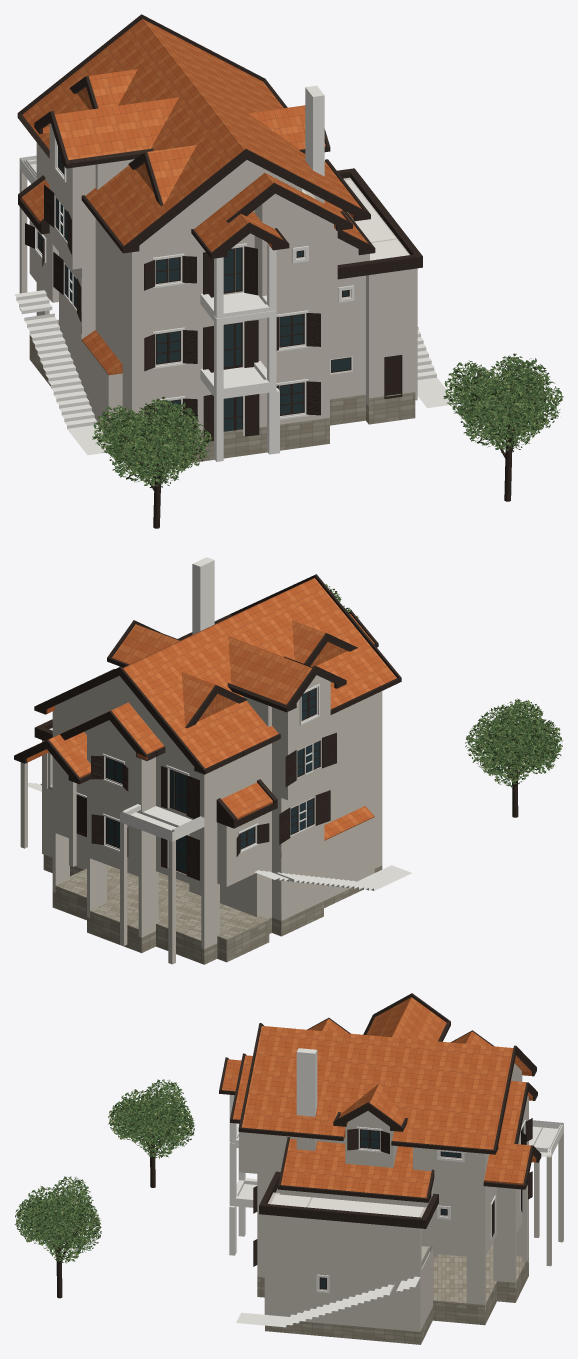
The model's file is context-detail-b18.glb.
3 renders of one model, top to bottom at view 1: azimuth 30°, elevation 25°; view 2: azimuth 150°, elevation 25°; view 3: azimuth 270°, elevation 25°, orthographic. The views are drawn at different scales.
Parts seen in each view (by area): view 1: B18 | ÇATII.003, B18 | KAT 1$DUVAR, B18 | KAT 2$DUVAR, B18 | KAT 0$DUVAR, B18 | ek dalgalar, B18 | ÇATI ALIN.002, Individual folded leaves.010, Individual folded leaves.009, B18 | KAT 3$DUVAR, B18 foundation below BK, B18 | PENCERE_KAPI$SHUTTER.001, B18 | ÇATI ALIN (+18 smaller); view 2: B18 | ÇATII.003, B18 | KAT 0$DUVAR, B18 | KAT 1$DUVAR, B18 | KAT 2$DUVAR, B18 foundation below BK, B18 | ÇATI ALIN.002, Individual folded leaves.009, B18 | KAT 3$DUVAR, B18 | ÇATI ALIN.001, B18 | PENCERE_KAPI$SHUTTER.001, B18 | ÇATII.002, B18 | PENCERE_KAPI$SHUTTER.002 (+9 smaller); view 3: B18 | ÇATII.003, B18 | KAT 1$DUVAR, B18 | KAT 0$DUVAR, B18 | ÇATII.002, B18 | KAT 2$DUVAR, B18 foundation below BK, Individual folded leaves.010, Individual folded leaves.009, B18 | ÇATI ALIN.002, B18 | ek dalgalar, B18 | ÇATI ALIN.001, B18 | ÇATI ALIN (+6 smaller).
Part boxes in pixels (box(x1,y1,x2,y2)): B18 | ÇATII.003: box(22, 19, 361, 252); B18 | KAT 1$DUVAR: box(29, 177, 417, 384); B18 | KAT 2$DUVAR: box(36, 142, 369, 312); B18 | KAT 0$DUVAR: box(19, 169, 417, 435); B18 | ek dalgalar: box(14, 290, 455, 461); B18 | ÇATI ALIN.002: box(18, 14, 370, 258); Individual folded leaves.010: box(443, 353, 563, 452); Individual folded leaves.009: box(92, 396, 212, 487); B18 | KAT 3$DUVAR: box(49, 124, 333, 242); B18 foundation below BK: box(29, 320, 415, 470); B18 | PENCERE_KAPI$SHUTTER.001: box(25, 223, 320, 372); B18 | ÇATI ALIN: box(18, 168, 422, 279); B18 | ÇATII.003: box(70, 578, 396, 768); B18 | KAT 0$DUVAR: box(42, 794, 382, 964); B18 | KAT 1$DUVAR: box(20, 728, 382, 889); B18 | KAT 2$DUVAR: box(52, 691, 382, 825); B18 foundation below BK: box(43, 854, 382, 964); B18 | ÇATI ALIN.002: box(34, 574, 401, 773); Individual folded leaves.009: box(465, 698, 563, 787); B18 | KAT 3$DUVAR: box(55, 675, 330, 760); B18 | ÇATI ALIN.001: box(14, 614, 401, 822); B18 | PENCERE_KAPI$SHUTTER.001: box(91, 790, 330, 880); B18 | ÇATII.002: box(27, 705, 272, 817); B18 | PENCERE_KAPI$SHUTTER.002: box(91, 666, 336, 818); B18 | ÇATII.003: box(222, 997, 532, 1149); B18 | KAT 1$DUVAR: box(257, 1161, 539, 1278); B18 | KAT 0$DUVAR: box(257, 1132, 563, 1331); B18 | ÇATII.002: box(281, 1071, 536, 1197); B18 | KAT 2$DUVAR: box(239, 1075, 528, 1207); B18 foundation below BK: box(257, 1242, 528, 1344); Individual folded leaves.010: box(14, 1176, 101, 1263); Individual folded leaves.009: box(108, 1079, 194, 1158); B18 | ÇATI ALIN.002: box(219, 993, 537, 1153); B18 | ek dalgalar: box(229, 1178, 420, 1327); B18 | ÇATI ALIN.001: box(219, 1068, 541, 1202); B18 | ÇATI ALIN: box(259, 1171, 438, 1228).
Bounding box in the file's own units: 21.26 × 14.71 × 29.04.
Materials: 12 (12 with a texture image).
